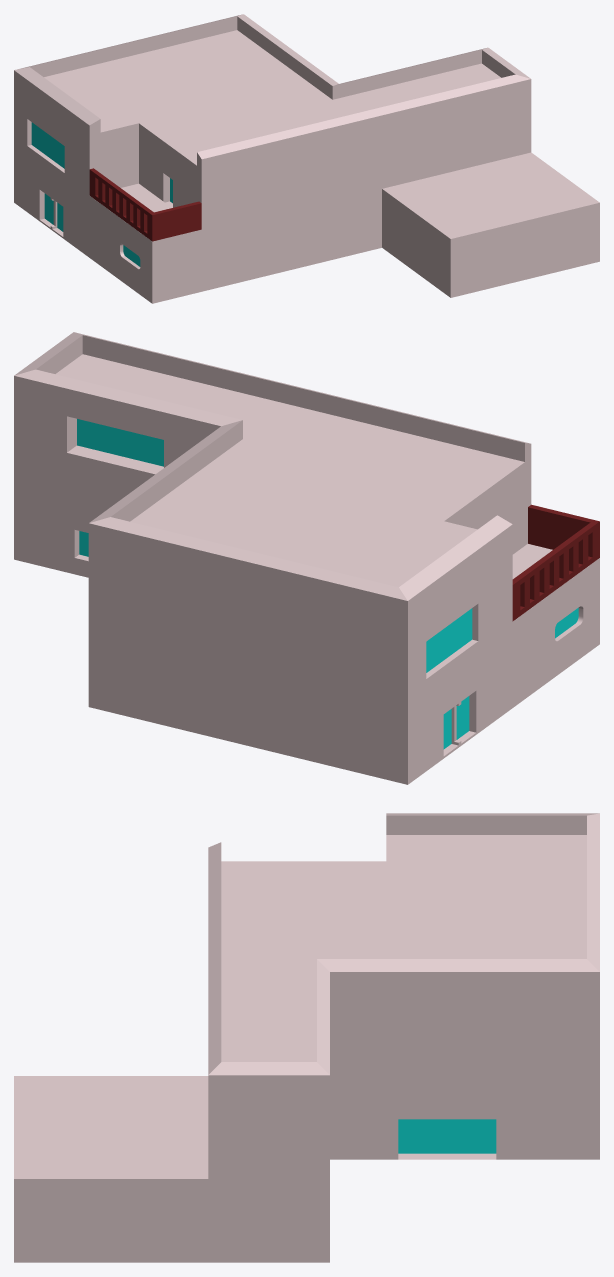
The model's file is house2.fbx.
3 views of the same model, one above another, from view 1: azimuth 30°, elevation 25°; view 2: azimuth 150°, elevation 25°; view 3: azimuth 270°, elevation 25° (orthographic). The views are drawn at different scales.
Parts seen in each view (by area): view 1: Cube.004_Plate.002; view 2: Cube.004_Plate.002; view 3: Cube.004_Plate.002.
Part boxes in pixels (x1,y1,x2,y2): Cube.004_Plate.002: (14, 14, 599, 303); Cube.004_Plate.002: (14, 332, 599, 784); Cube.004_Plate.002: (14, 813, 599, 1262).
Bounding box in the file's own units: 20190 × 6935 × 19101.
